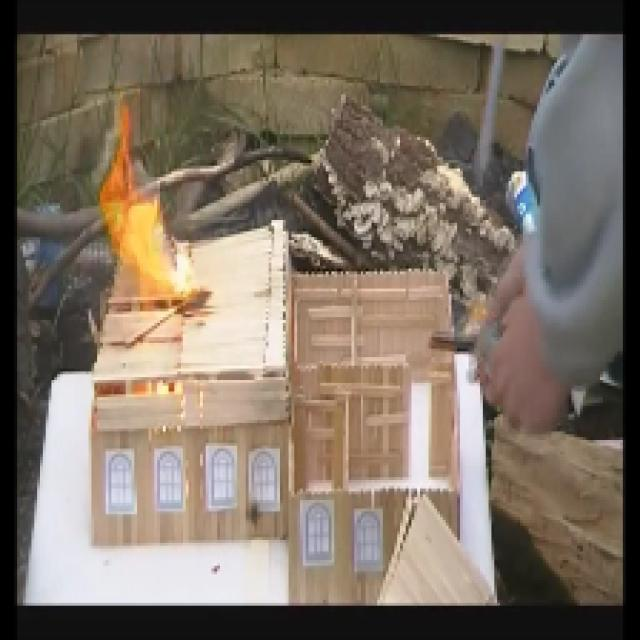fire: (86, 142, 194, 290)
